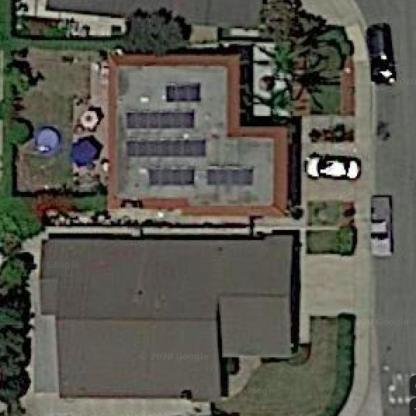car: (362, 17, 400, 92), (300, 152, 371, 186), (365, 190, 393, 261)
solar_panel: (119, 105, 202, 136), (117, 134, 213, 159), (139, 163, 198, 189), (156, 79, 206, 106), (197, 167, 258, 187)
